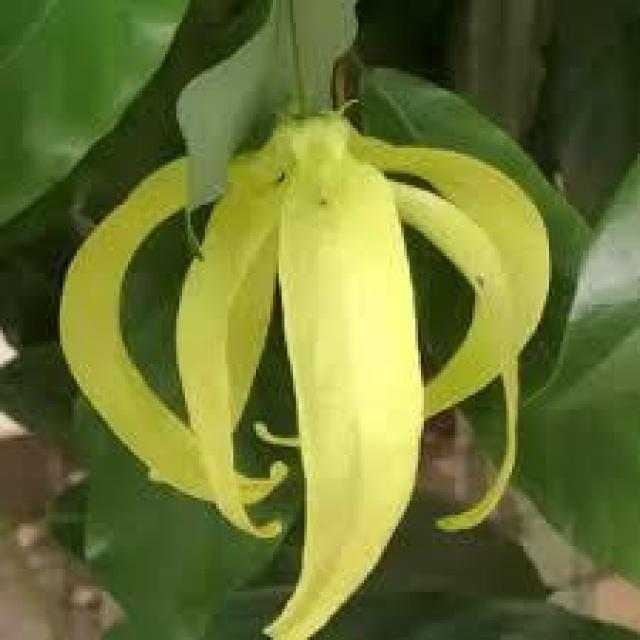organic waste: (67, 88, 550, 614)
